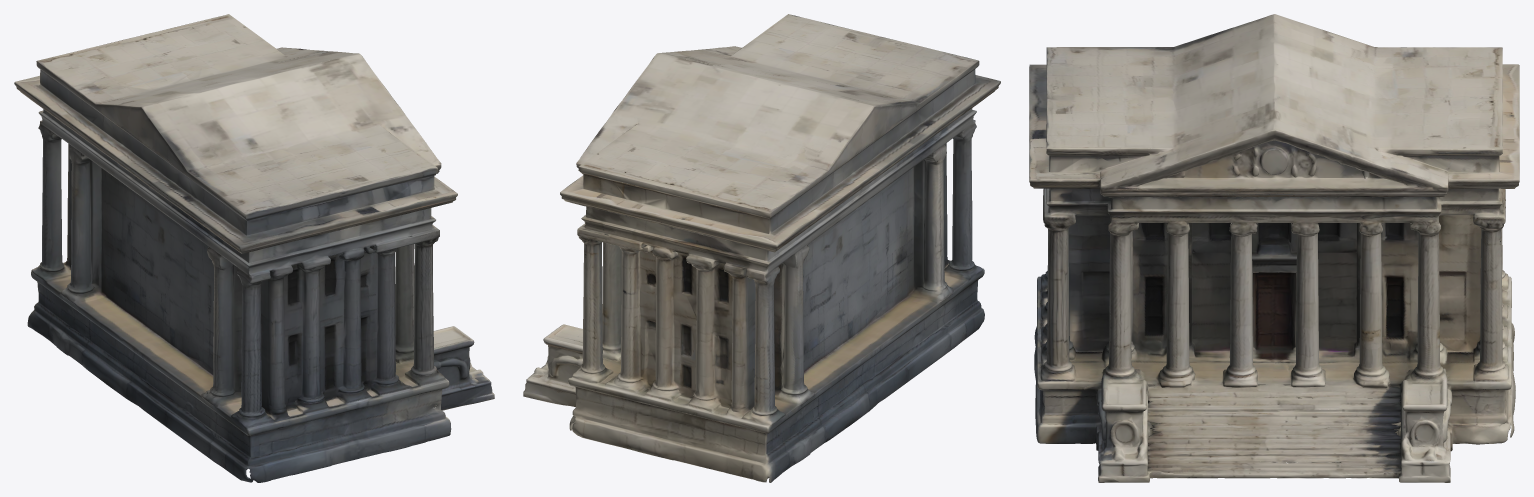
File: building-court.glb
3 views of the same model, side by side, from view 1: azimuth 30°, elevation 25°; view 2: azimuth 150°, elevation 25°; view 3: azimuth 270°, elevation 25° (orthographic). The views are drawn at different scales.
Visible parts, largest first — view 1: tripo_node_a3f06f05-f0e7-470e-ae15-c7f5ed8ced51; view 2: tripo_node_a3f06f05-f0e7-470e-ae15-c7f5ed8ced51; view 3: tripo_node_a3f06f05-f0e7-470e-ae15-c7f5ed8ced51.
Part boxes in pixels (left/top/right/bottom): tripo_node_a3f06f05-f0e7-470e-ae15-c7f5ed8ced51: left=14, top=14, right=494, bottom=482; tripo_node_a3f06f05-f0e7-470e-ae15-c7f5ed8ced51: left=523, top=14, right=1000, bottom=482; tripo_node_a3f06f05-f0e7-470e-ae15-c7f5ed8ced51: left=1029, top=14, right=1519, bottom=482.
Bounding box in the file's own units: 12.06 × 12 × 16.41.
1 material, 1 textured.
